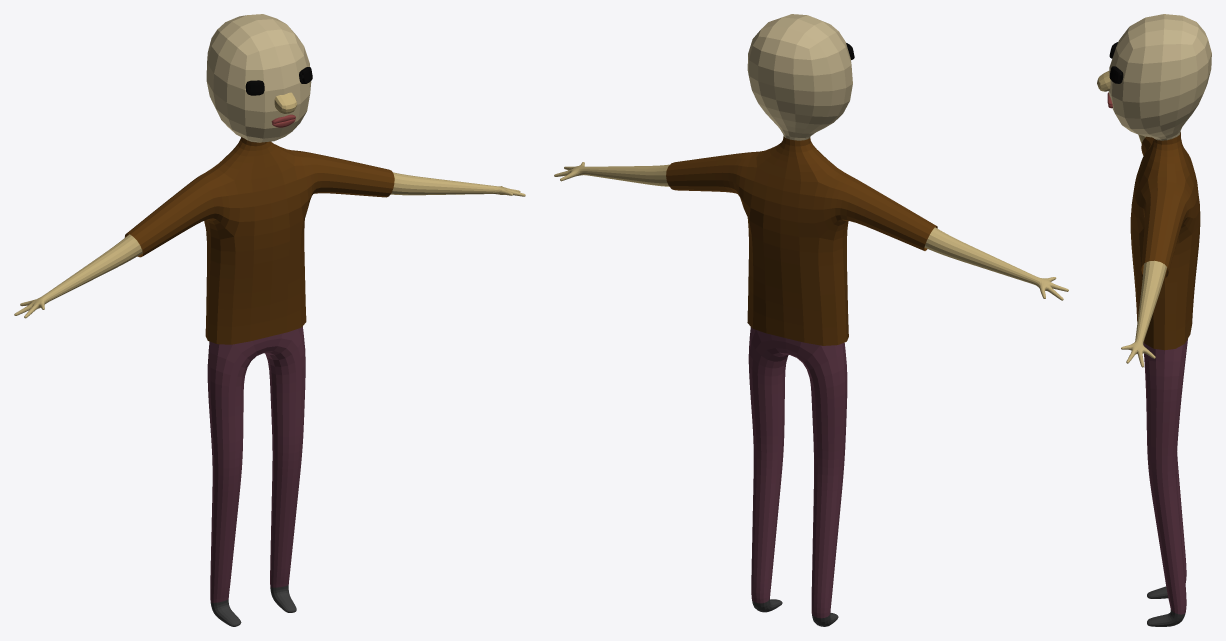
The model's file is npcman.fbx.
The picture shows the model from 3 angles, left to right: view 1: azimuth 30°, elevation 25°; view 2: azimuth 150°, elevation 25°; view 3: azimuth 270°, elevation 25°; orthographic projection.
Visible parts, largest first — view 1: Vert.010, Vert.008, Vert.004, Vert.009, Vert.011; view 2: Vert.010, Vert.008, Vert.004, Vert.009; view 3: Vert.010, Vert.004, Vert.008, Vert.009, Vert.011, Cube.004, Cube.005.
Part boxes in pixels (box(x1,y1,x2,y2)): Vert.010: box(124, 137, 394, 344); Vert.008: box(207, 326, 305, 602); Vert.004: box(206, 14, 311, 142); Vert.009: box(14, 172, 525, 318); Vert.011: box(210, 585, 296, 626); Vert.010: box(666, 136, 937, 345); Vert.008: box(748, 327, 847, 618); Vert.004: box(747, 14, 852, 140); Vert.009: box(554, 162, 1068, 300); Vert.010: box(1130, 132, 1200, 350); Vert.004: box(1108, 14, 1211, 140); Vert.008: box(1143, 339, 1187, 614); Vert.009: box(1121, 134, 1166, 367); Vert.011: box(1147, 586, 1185, 626); Cube.004: box(1109, 42, 1123, 83); Cube.005: box(1097, 71, 1110, 91).
Size of the model in its own units: 674 by 757 by 133.
